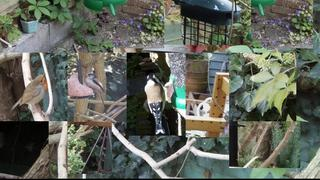goldfinch: (144, 73, 166, 135)
long tailed tit: (85, 73, 107, 114)
robin: (9, 73, 48, 114)
